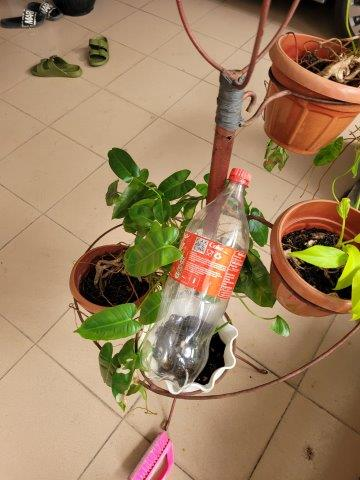botolplastik: (145, 168, 250, 382)
